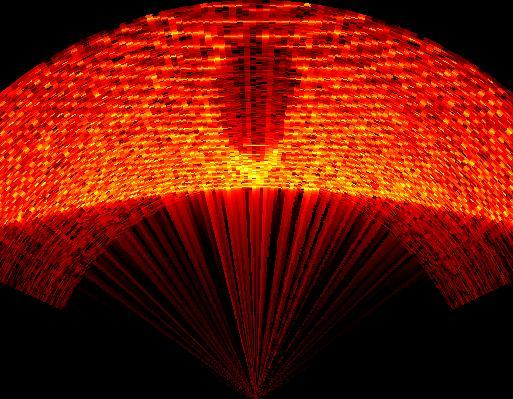box_crate: (214, 26, 300, 161)
